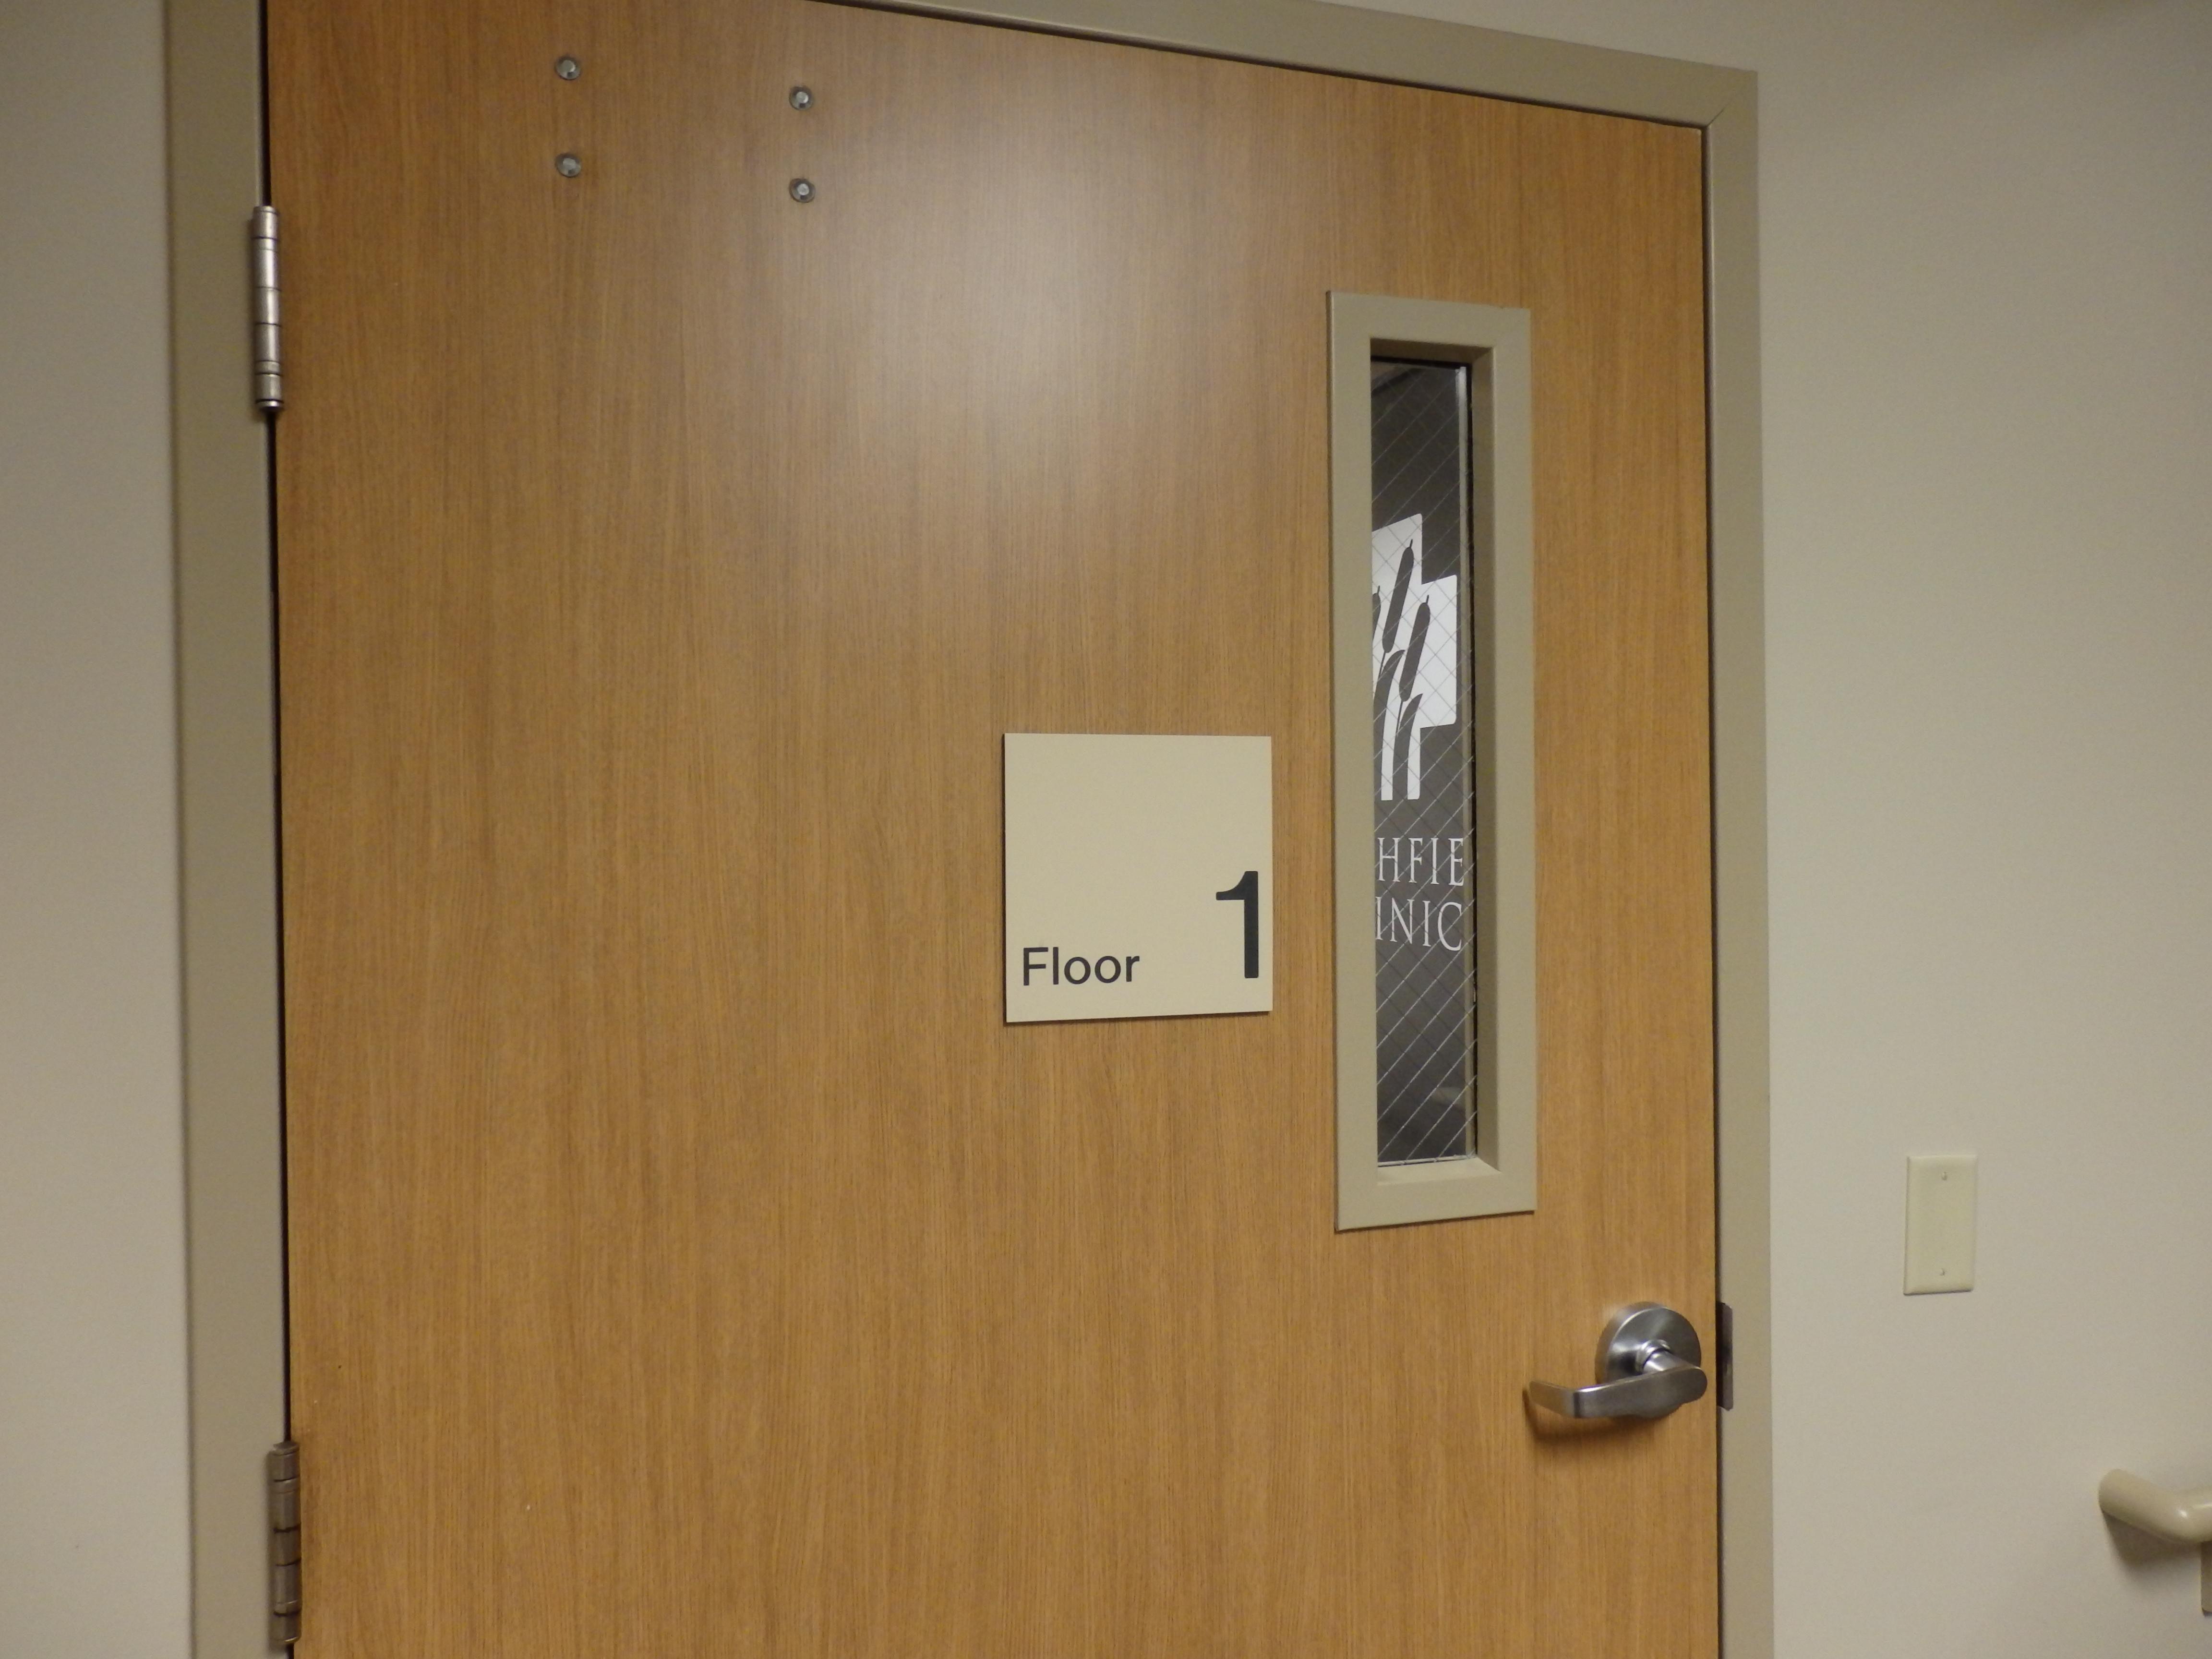door: (247, 3, 1747, 1659)
